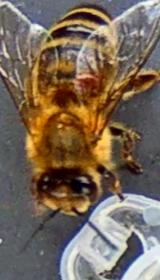varroa_mite: (70, 58, 115, 103)
